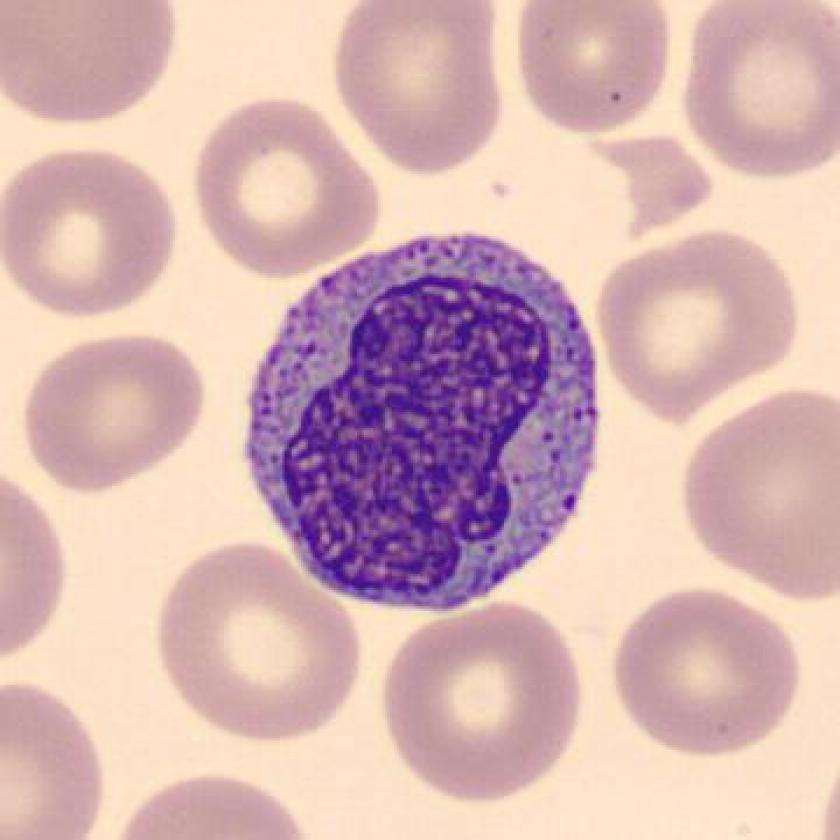monocyte: (223, 207, 622, 628)
